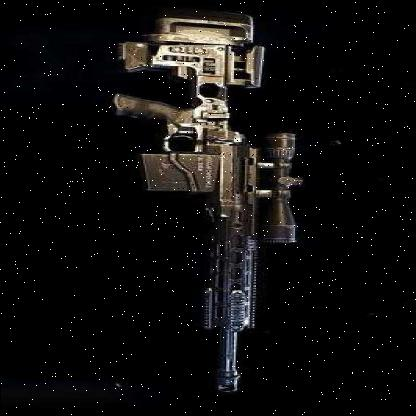rifle: (84, 7, 328, 399)
